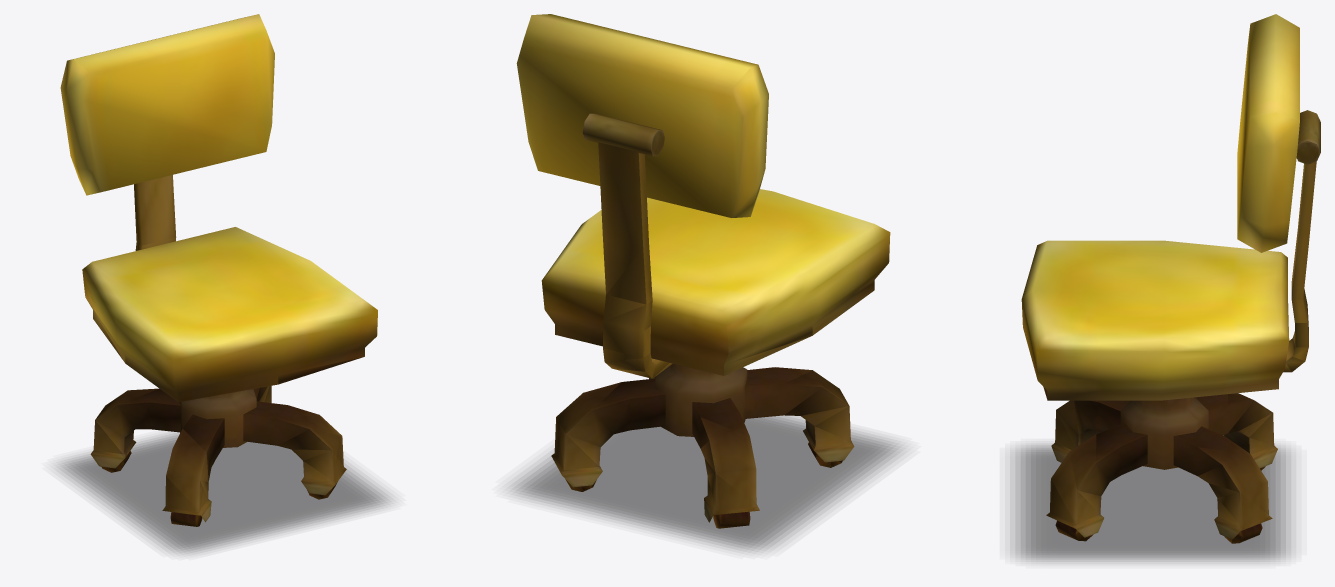
Rendered from deskChair.glb.
The picture shows the model from 3 angles, left to right: view 1: azimuth 30°, elevation 25°; view 2: azimuth 150°, elevation 25°; view 3: azimuth 270°, elevation 25°; orthographic projection. The views are drawn at different scales.
Parts seen in each view (by area): view 1: sbChair, square_drop_shadow; view 2: sbChair, square_drop_shadow; view 3: sbChair, square_drop_shadow.
Part boxes in pixels (x1=…): sbChair: x1=60, y1=14, x2=377, y2=526; square_drop_shadow: x1=56, y1=432, x2=392, y2=554; sbChair: x1=516, y1=14, x2=890, y2=528; square_drop_shadow: x1=508, y1=415, x2=905, y2=552; sbChair: x1=1021, y1=14, x2=1320, y2=543; square_drop_shadow: x1=1010, y1=443, x2=1291, y2=561.
Bounding box in the file's own units: 2.21 × 3.22 × 2.24.
4 materials, 4 textured.
